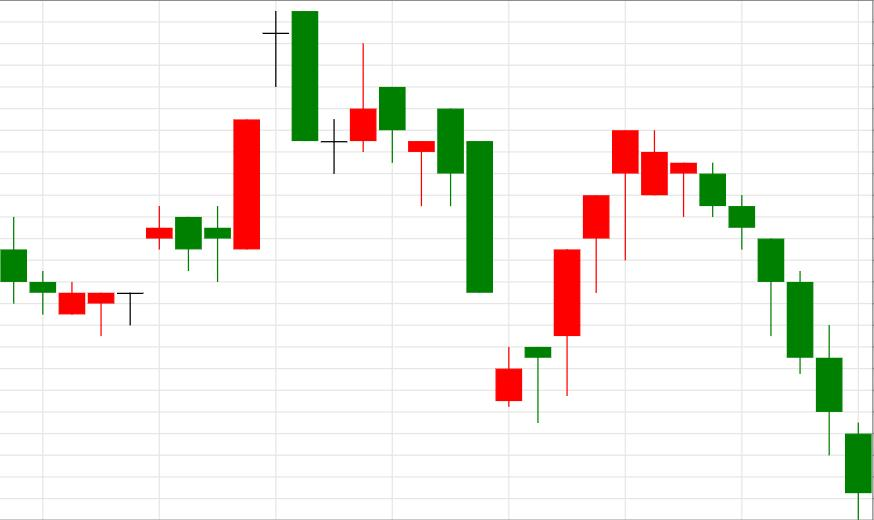hanging_man_fall: (495, 129, 638, 422)
